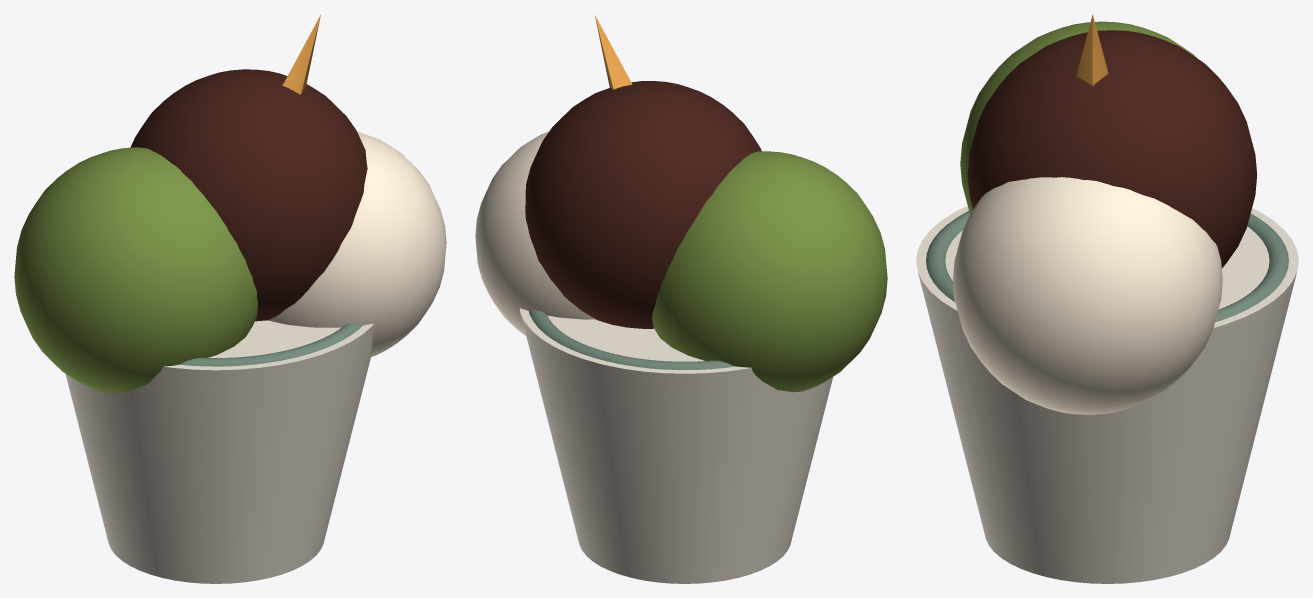
Rendered from ice-cream.glb.
The picture shows the model from 3 angles, left to right: view 1: azimuth 30°, elevation 25°; view 2: azimuth 150°, elevation 25°; view 3: azimuth 270°, elevation 25°; orthographic projection. The views are drawn at different scales.
Visible parts, largest first — view 1: LaBaguette_ice-cream; view 2: LaBaguette_ice-cream; view 3: LaBaguette_ice-cream.
Part boxes in pixels (x1,y1,x2,y2): LaBaguette_ice-cream: (14,14,446,583); LaBaguette_ice-cream: (475,15,887,583); LaBaguette_ice-cream: (916,14,1298,583).
Size of the model in its own units: 2.1 by 2.57 by 1.56.
